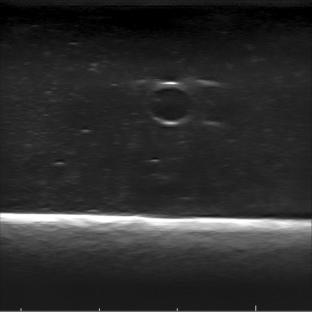vessel: (144, 80, 195, 126)
